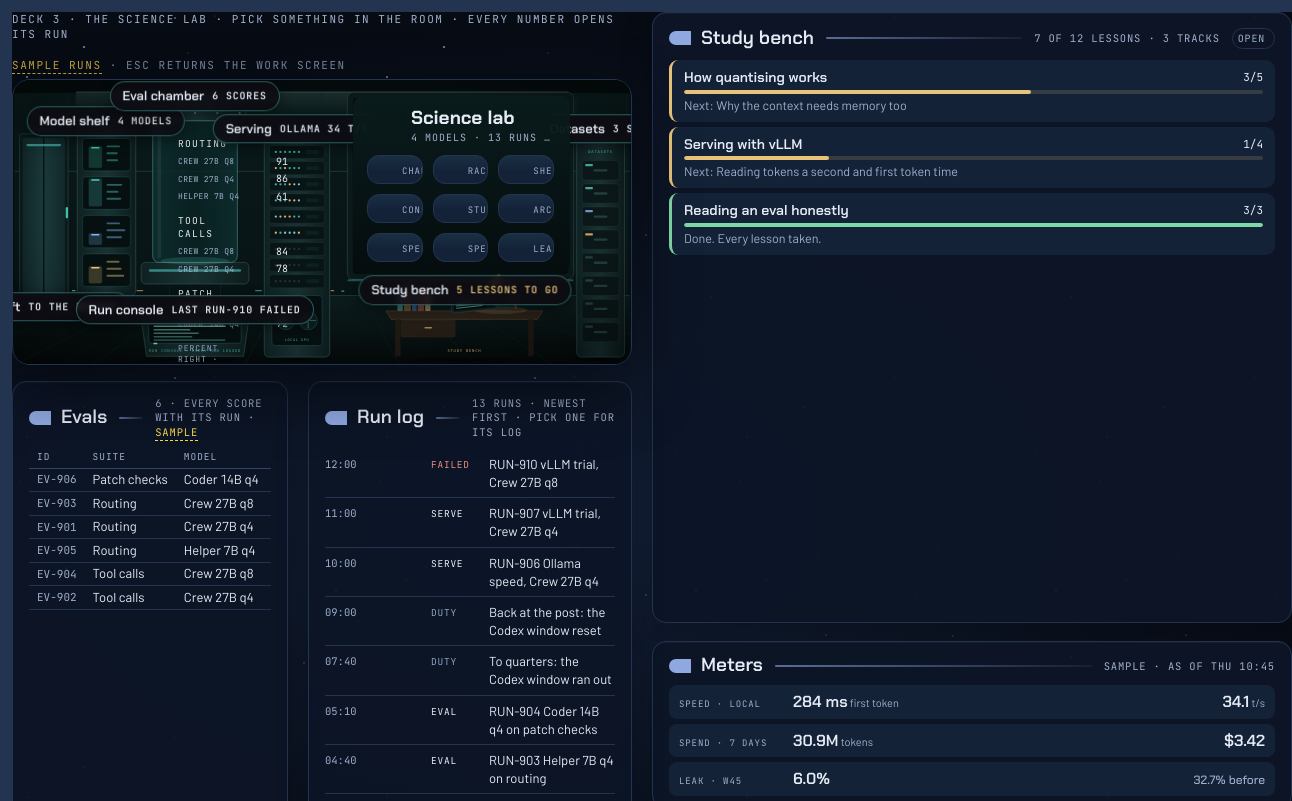
Scenario: the meters › the side panel opens speed, spend and the leak
Click the 1st button with class "mp-row" at (720, 704), box [669,685,1275,719]
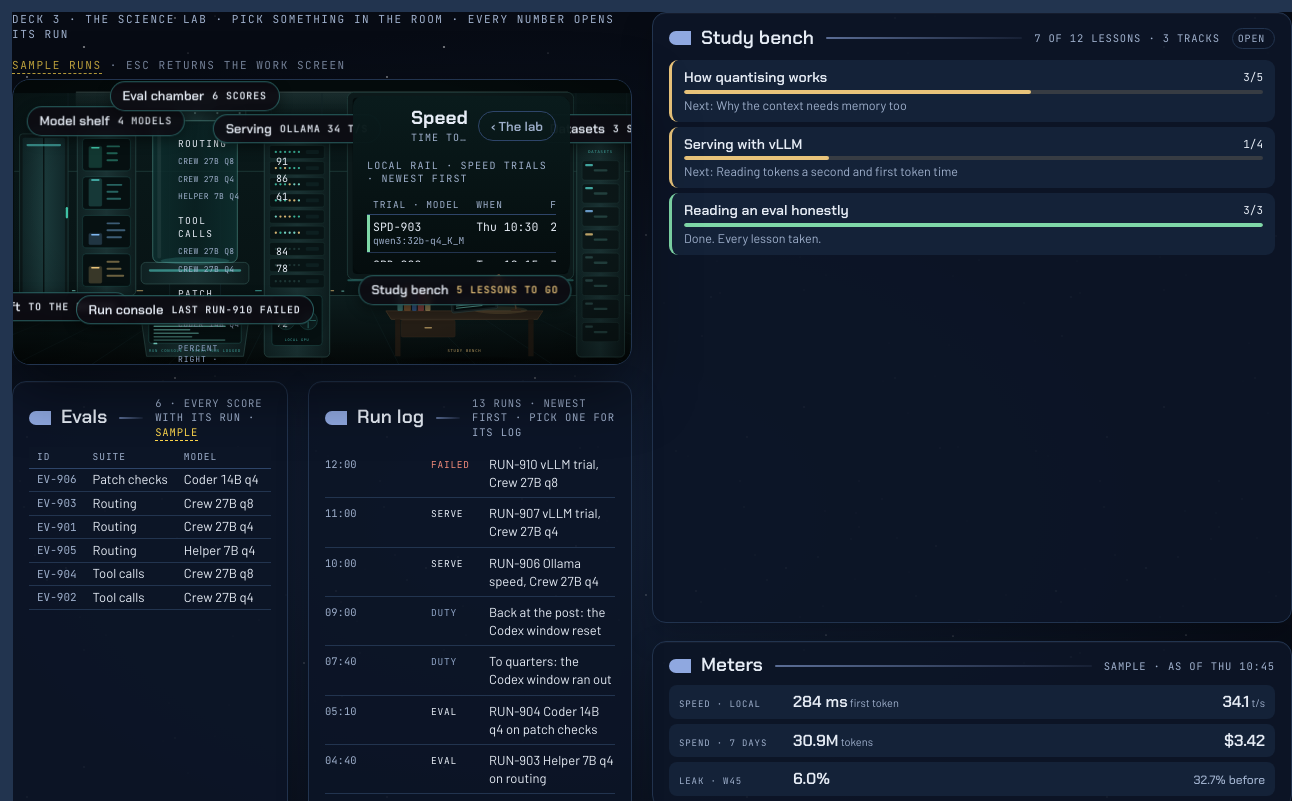
expect the text with class "con-title" reads "Speed": met, box [411,105,468,130]
Click the button with class "mp-row" showing "LEAK · W45 6.0% 32.7% before" at (701, 781), box [669,762,1275,796]
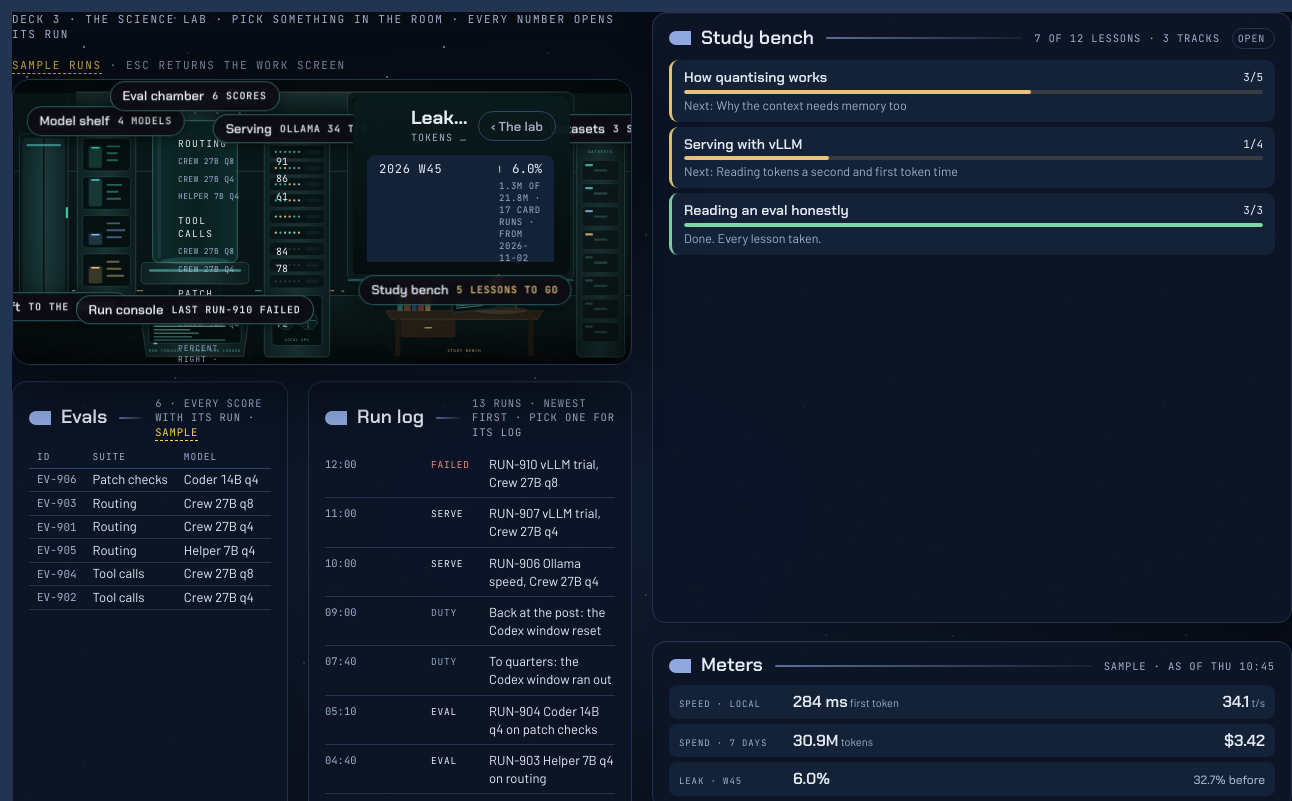
expect the text with class "con-title" reads "Leak share": met, box [411,105,510,130]
